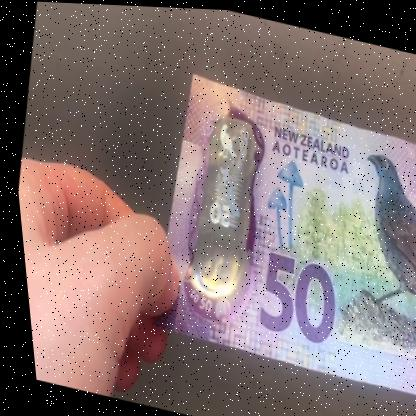50B: (175, 110, 267, 301)
